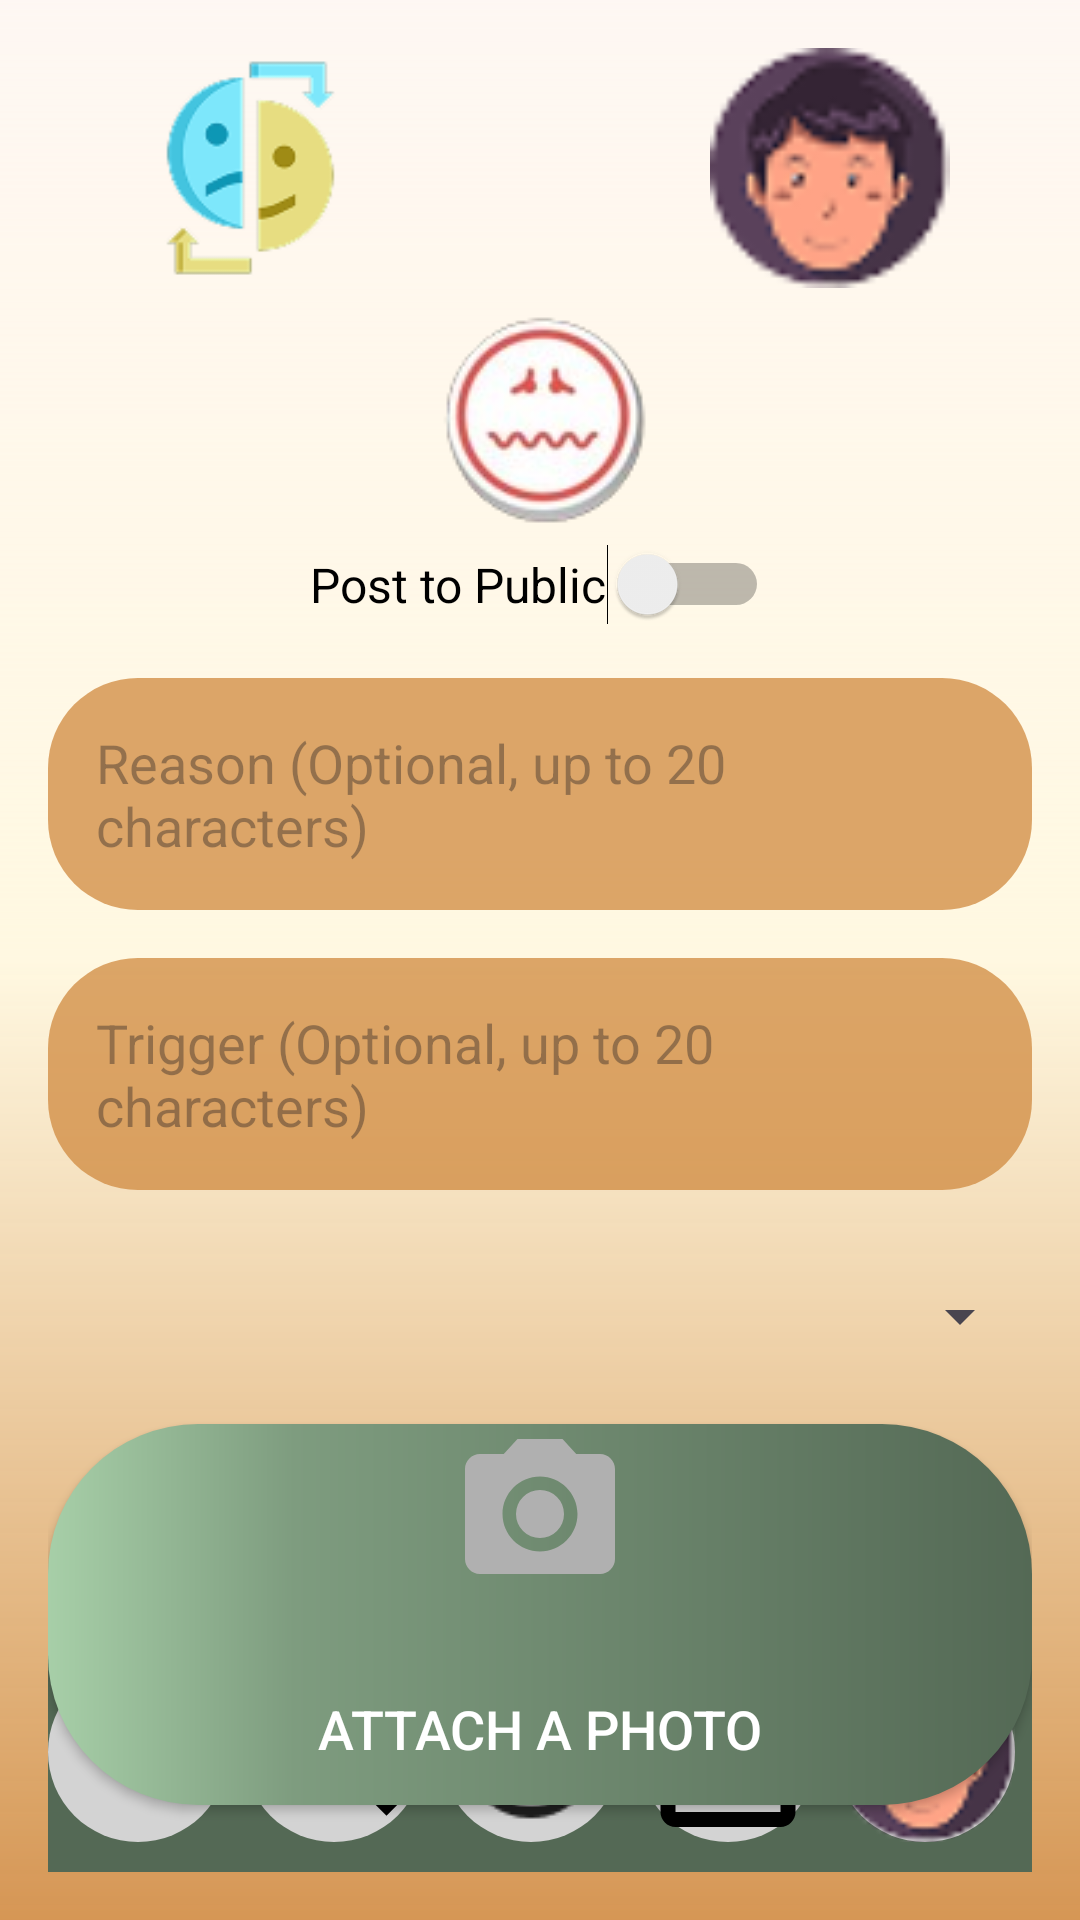

Named icons in this screenshot (1080 × 1920) and their bounding boxes, region(x1, y1, x2, y2):
mood: region(166, 61, 335, 275)
mood shame: region(447, 318, 645, 523)
